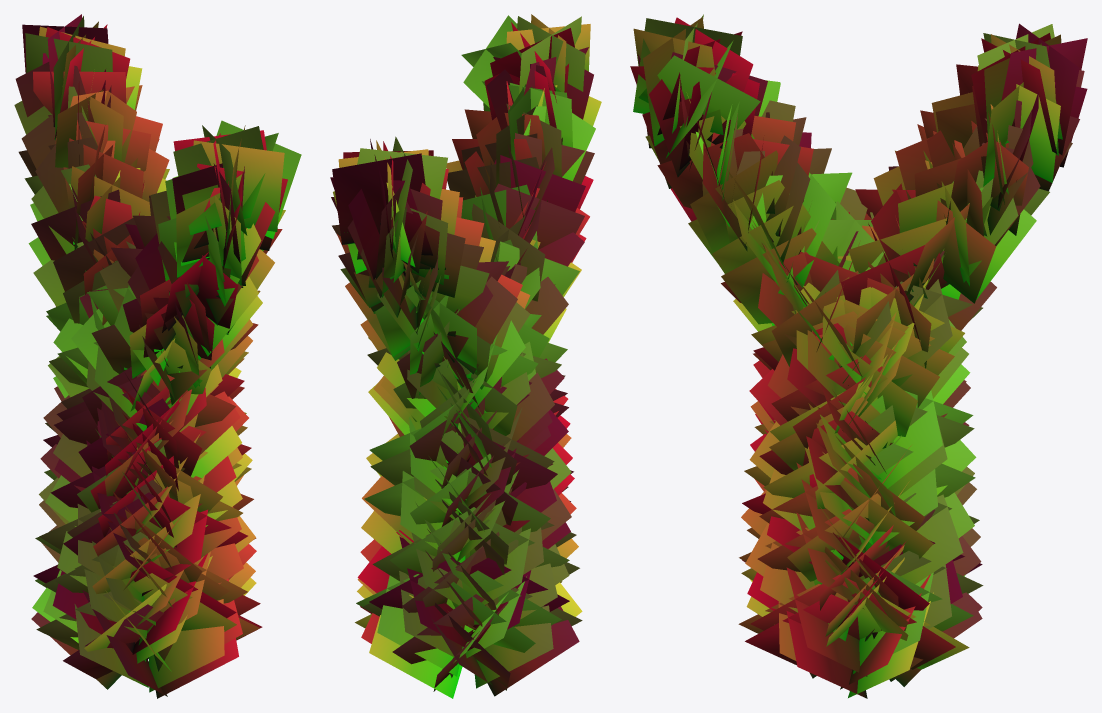
The model's file is URP_P4_Tree_11_LOD_1.fbx.
3 renders of one model, left to right at view 1: azimuth 30°, elevation 25°; view 2: azimuth 150°, elevation 25°; view 3: azimuth 270°, elevation 25°, orthographic. The views are drawn at different scales.
Parts seen in each view (by area): view 1: Tree_11_LOD_1; view 2: Tree_11_LOD_1; view 3: Tree_11_LOD_1.
Boxes of the visible parts, x1,y1,x2,y2 form: Tree_11_LOD_1: [14, 14, 301, 698]; Tree_11_LOD_1: [330, 14, 601, 698]; Tree_11_LOD_1: [630, 14, 1087, 698].
Size of the model in its own units: 211 by 621 by 393.
